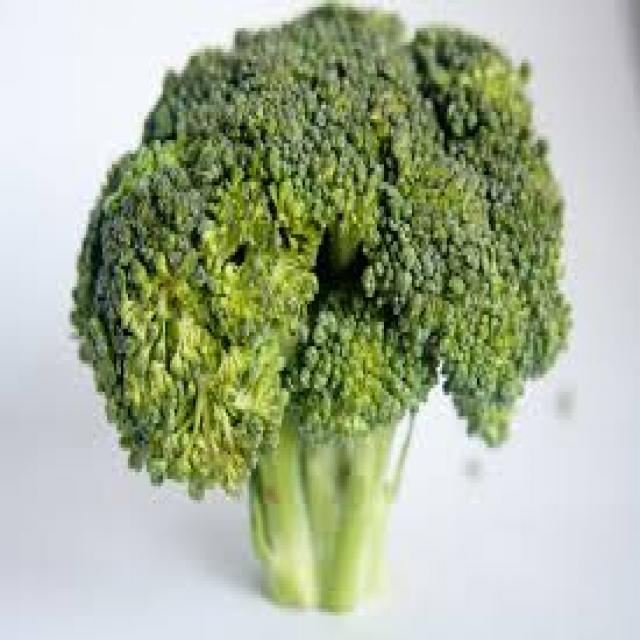organic waste: (70, 0, 572, 612)
